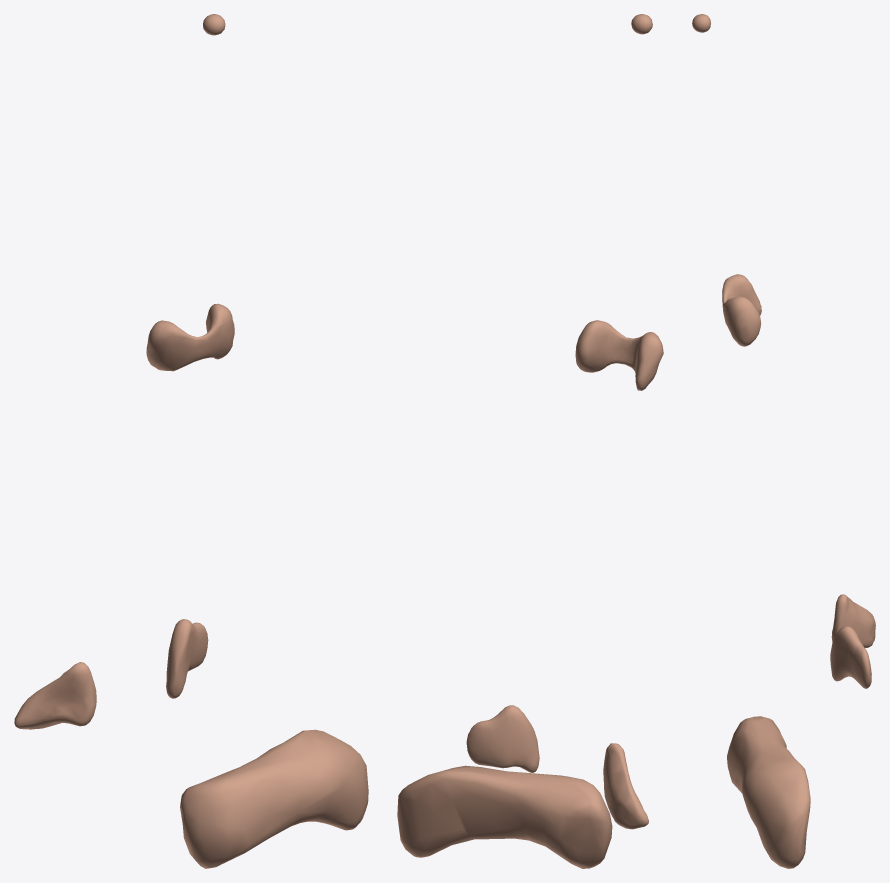
The model's file is pediatric_child_5y_female.endocrine.LOD0.glb.
3 views of the same model, side by side, from view 1: azimuth 30°, elevation 25°; view 2: azimuth 150°, elevation 25°; view 3: azimuth 270°, elevation 25° (orthographic). The views are drawn at different scales.
Parts seen in each view (by area): view 1: PEDIATRIC.CHILD_5Y.FEMALE.ENDOCRINE.PANCREAS, PEDIATRIC.CHILD_5Y.FEMALE.ENDOCRINE.THYROID, PEDIATRIC.CHILD_5Y.FEMALE.ENDOCRINE.ADRENAL.R, PEDIATRIC.CHILD_5Y.FEMALE.ENDOCRINE.ADRENAL.L; view 2: PEDIATRIC.CHILD_5Y.FEMALE.ENDOCRINE.PANCREAS, PEDIATRIC.CHILD_5Y.FEMALE.ENDOCRINE.THYROID, PEDIATRIC.CHILD_5Y.FEMALE.ENDOCRINE.ADRENAL.L, PEDIATRIC.CHILD_5Y.FEMALE.ENDOCRINE.ADRENAL.R; view 3: PEDIATRIC.CHILD_5Y.FEMALE.ENDOCRINE.PANCREAS, PEDIATRIC.CHILD_5Y.FEMALE.ENDOCRINE.THYROID, PEDIATRIC.CHILD_5Y.FEMALE.ENDOCRINE.ADRENAL.L, PEDIATRIC.CHILD_5Y.FEMALE.ENDOCRINE.ADRENAL.R.
Boxes of the visible parts, x1=… form: PEDIATRIC.CHILD_5Y.FEMALE.ENDOCRINE.PANCREAS: x1=180, y1=729, x2=368, y2=868; PEDIATRIC.CHILD_5Y.FEMALE.ENDOCRINE.THYROID: x1=146, y1=303, x2=234, y2=371; PEDIATRIC.CHILD_5Y.FEMALE.ENDOCRINE.ADRENAL.R: x1=14, y1=662, x2=96, y2=729; PEDIATRIC.CHILD_5Y.FEMALE.ENDOCRINE.ADRENAL.L: x1=166, y1=619, x2=208, y2=698; PEDIATRIC.CHILD_5Y.FEMALE.ENDOCRINE.PANCREAS: x1=397, y1=765, x2=612, y2=868; PEDIATRIC.CHILD_5Y.FEMALE.ENDOCRINE.THYROID: x1=575, y1=320, x2=663, y2=390; PEDIATRIC.CHILD_5Y.FEMALE.ENDOCRINE.ADRENAL.L: x1=466, y1=705, x2=539, y2=772; PEDIATRIC.CHILD_5Y.FEMALE.ENDOCRINE.ADRENAL.R: x1=603, y1=743, x2=648, y2=829; PEDIATRIC.CHILD_5Y.FEMALE.ENDOCRINE.PANCREAS: x1=727, y1=716, x2=810, y2=868; PEDIATRIC.CHILD_5Y.FEMALE.ENDOCRINE.THYROID: x1=722, y1=274, x2=761, y2=346; PEDIATRIC.CHILD_5Y.FEMALE.ENDOCRINE.ADRENAL.L: x1=830, y1=626, x2=871, y2=688; PEDIATRIC.CHILD_5Y.FEMALE.ENDOCRINE.ADRENAL.R: x1=831, y1=594, x2=875, y2=648.
Size of the model in its own units: 0.1275 by 0.3544 by 0.0762.
